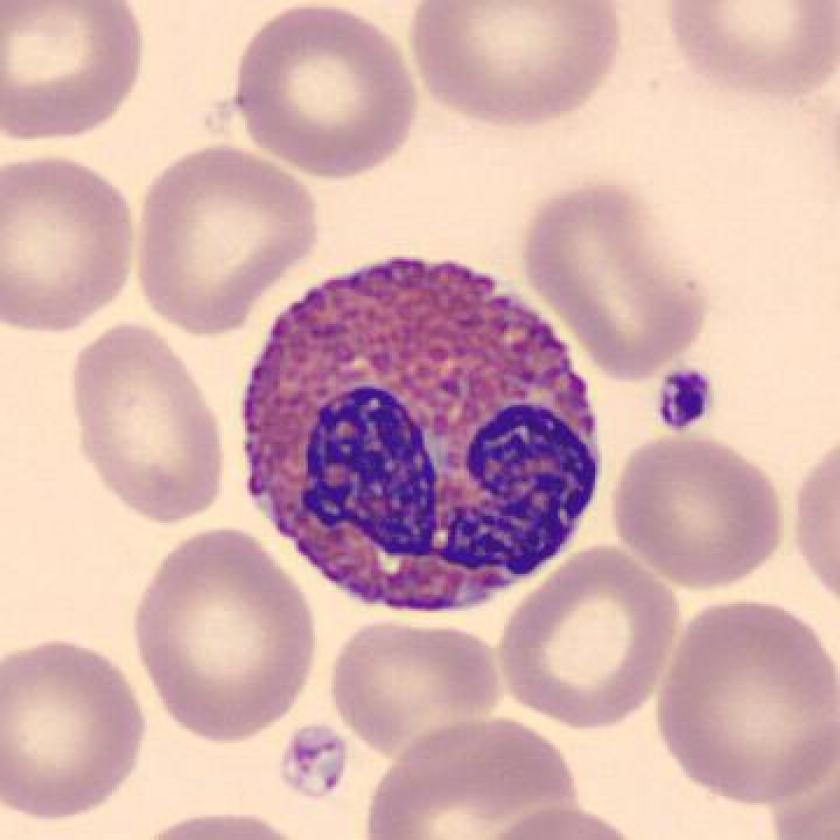eosinophil: (221, 242, 620, 631)
